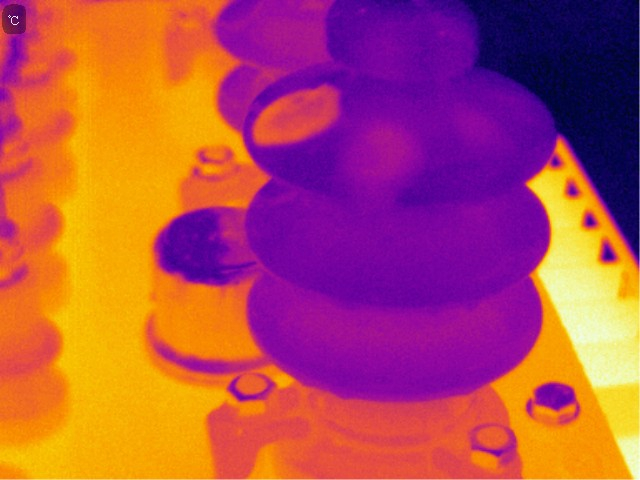Oil: (242, 75, 352, 152), (346, 126, 425, 184), (428, 20, 473, 81), (361, 26, 412, 76), (455, 111, 502, 151)
